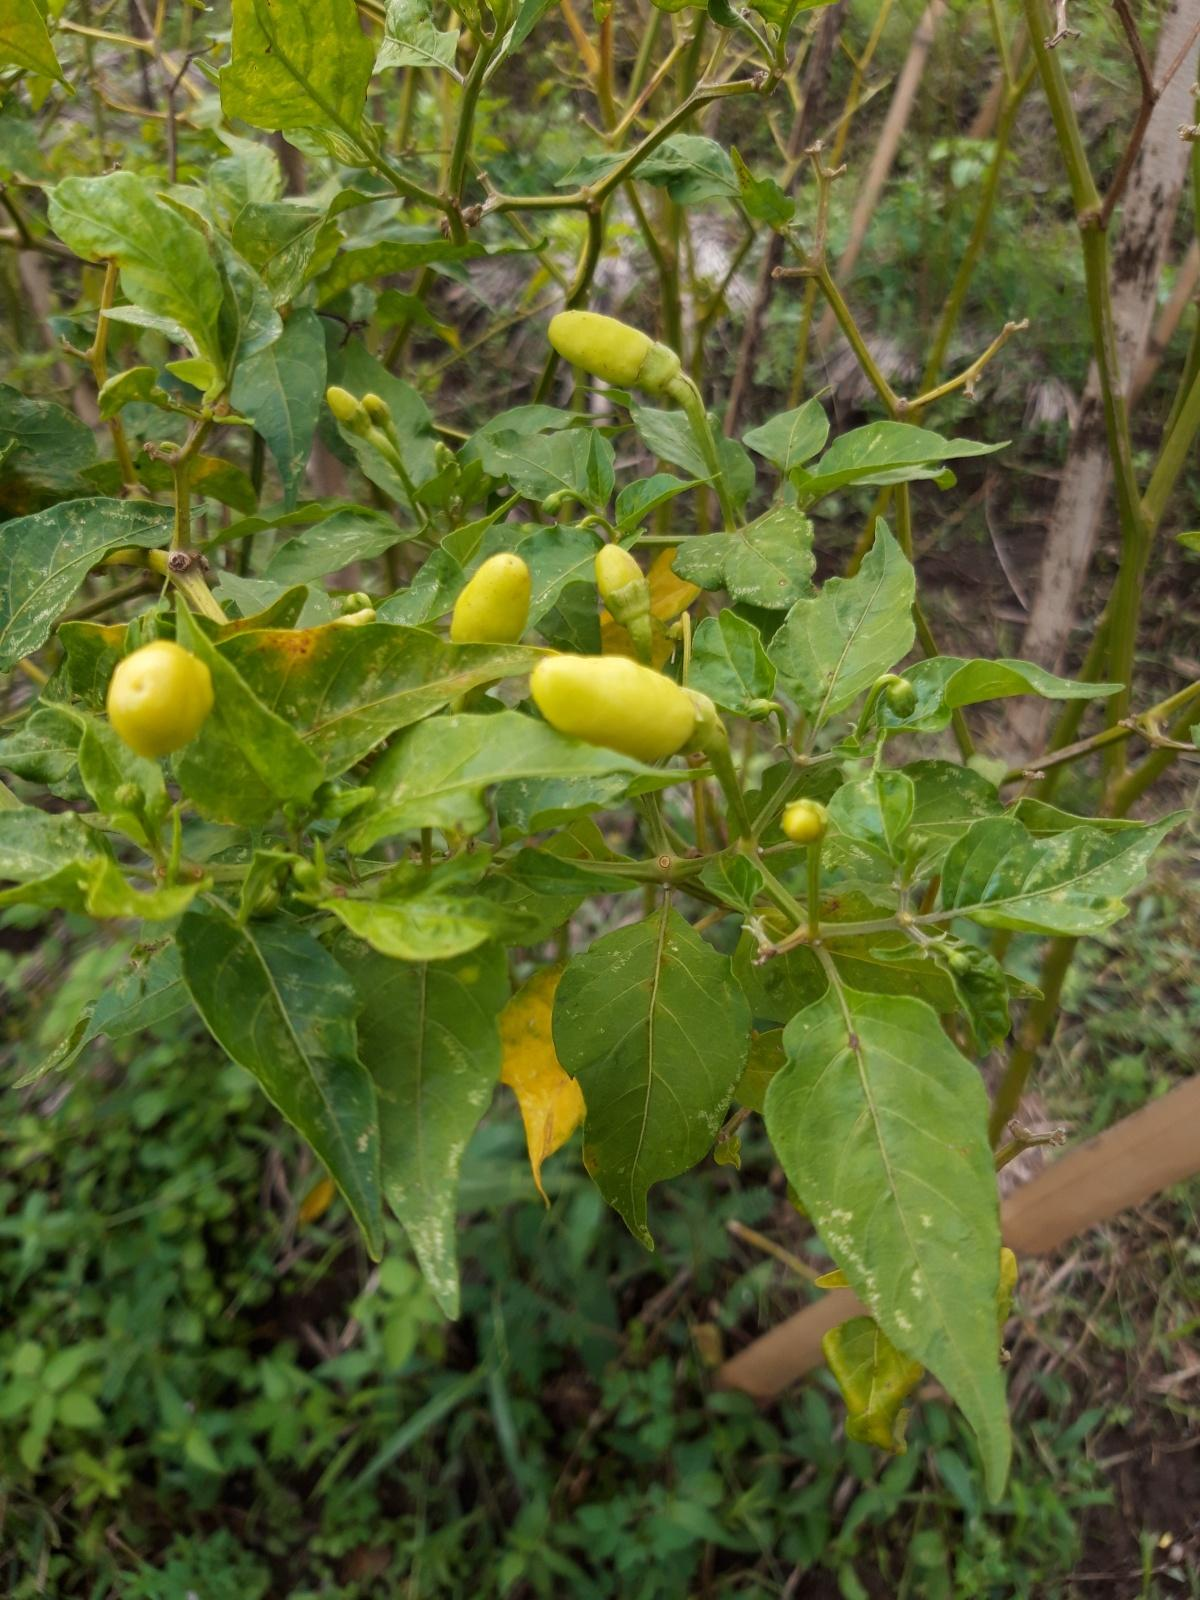cabai_normal: (531, 653, 701, 760), (106, 639, 216, 758), (547, 310, 669, 391), (451, 554, 528, 653), (594, 543, 653, 619), (325, 386, 366, 432), (785, 803, 821, 842)
